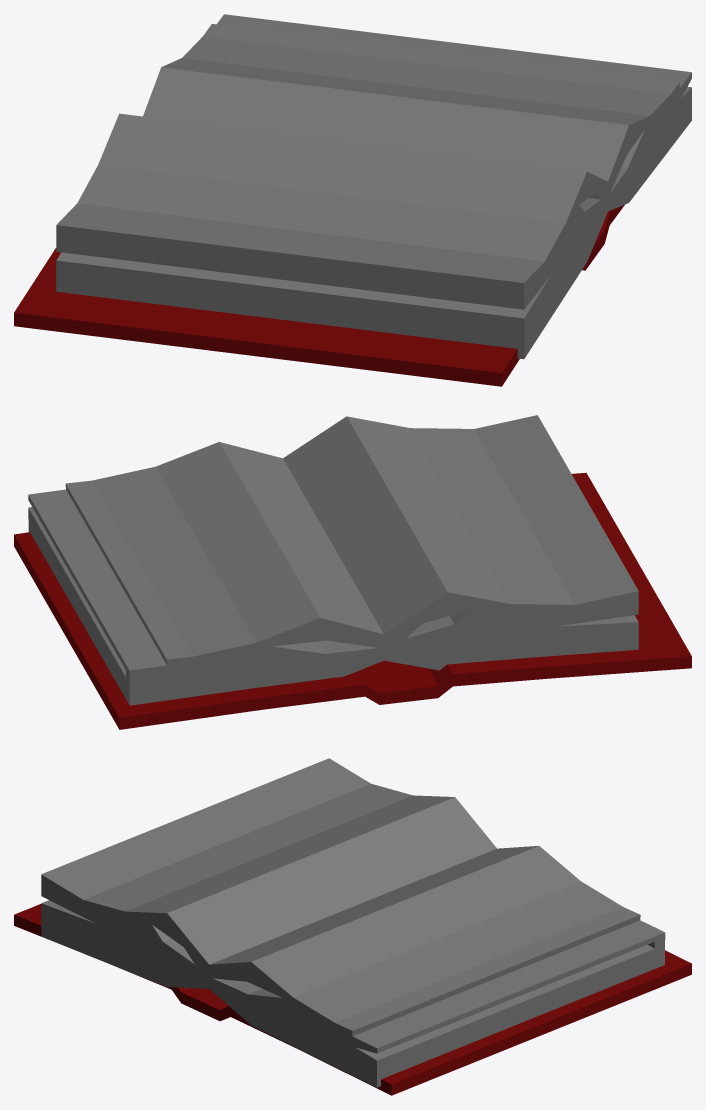
The model's file is book.glb.
The picture shows the model from 3 angles, top to bottom: view 1: azimuth 30°, elevation 25°; view 2: azimuth 150°, elevation 25°; view 3: azimuth 270°, elevation 25°; orthographic projection. The views are drawn at different scales.
Visible parts, largest first — view 1: polySurface941_white_0, polySurface941_guitar_0; view 2: polySurface941_white_0, polySurface941_guitar_0; view 3: polySurface941_white_0, polySurface941_guitar_0.
Part boxes in pixels (box(x1,y1,x2,y2)): polySurface941_white_0: box(56, 14, 691, 359); polySurface941_guitar_0: box(14, 204, 624, 386); polySurface941_white_0: box(28, 415, 638, 705); polySurface941_guitar_0: box(14, 472, 691, 729); polySurface941_white_0: box(41, 758, 665, 1087); polySurface941_guitar_0: box(14, 904, 691, 1095).
Bounding box in the file's own units: 1.44 × 0.2057 × 1.43.
